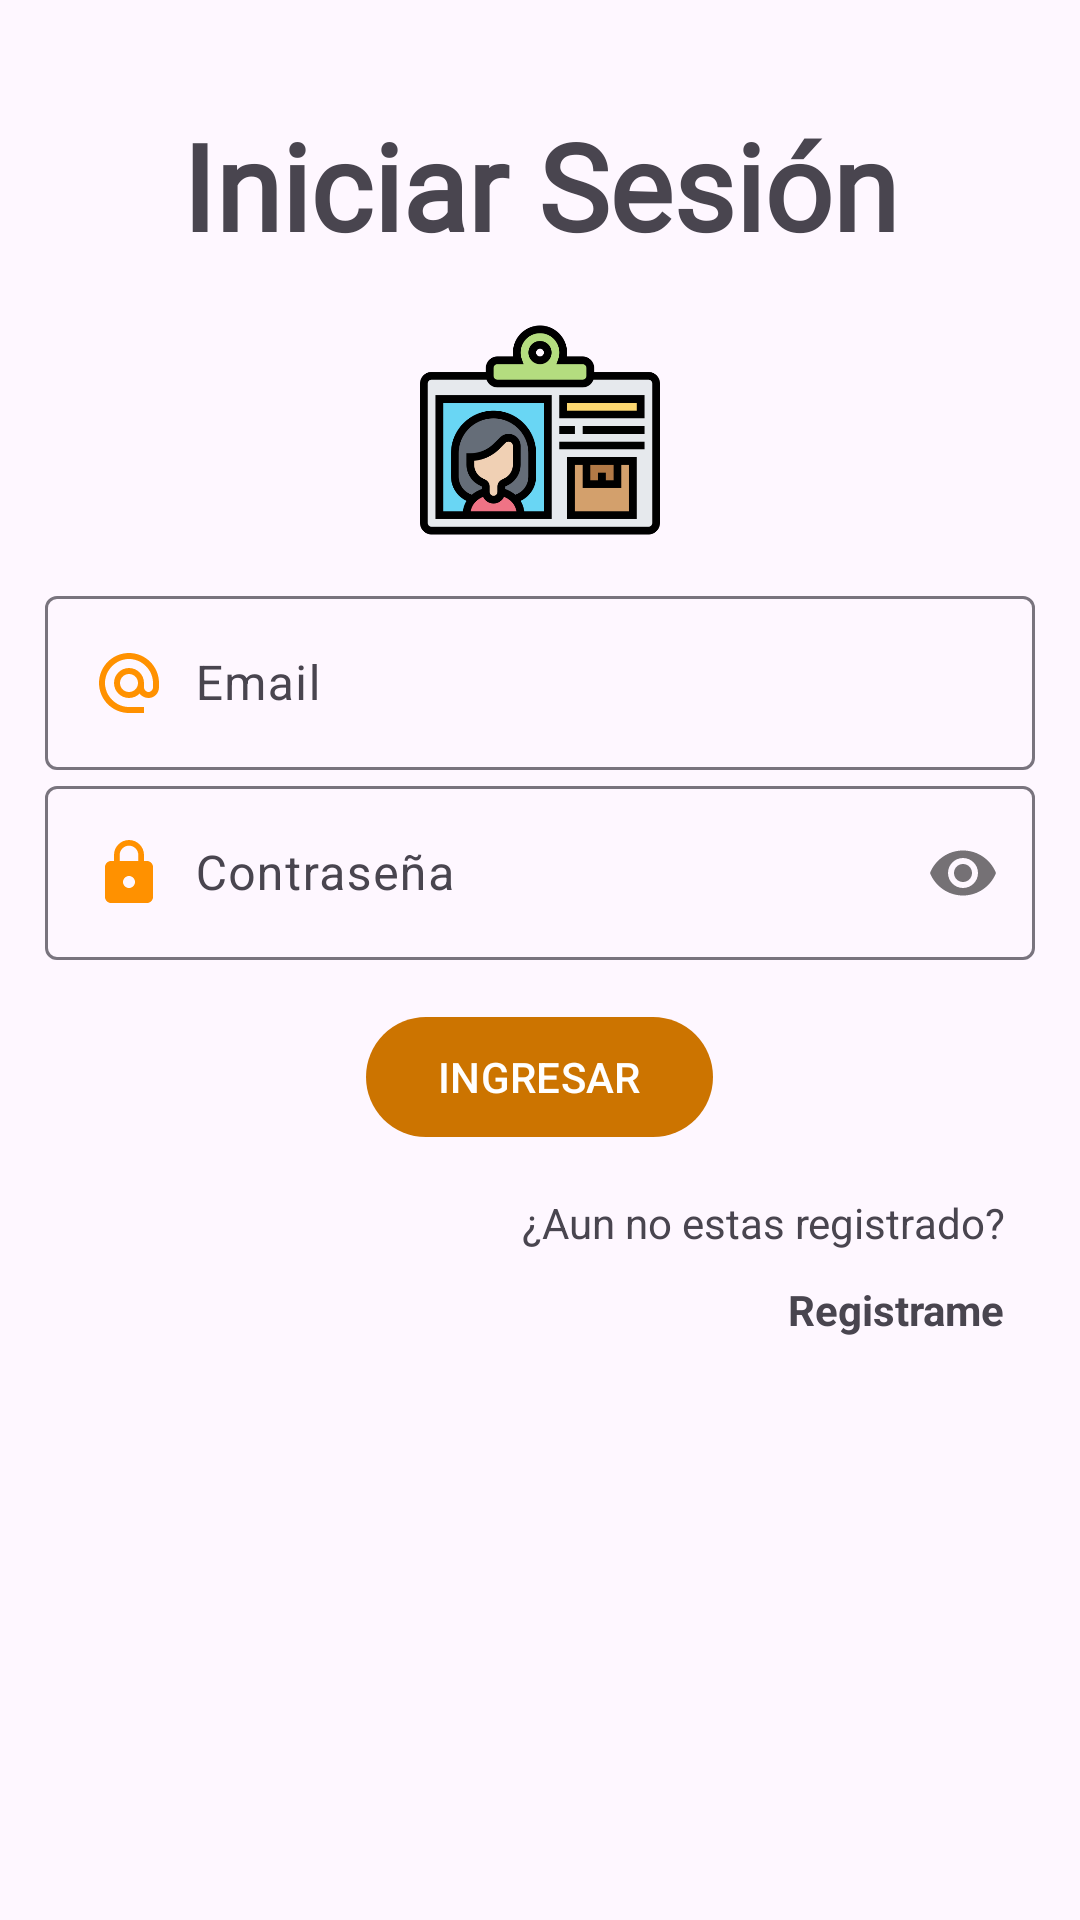

Screen size 1080px x 1920px. Icon name, then its center in pixels as point (x, y):
login administrador: point (540, 430)
